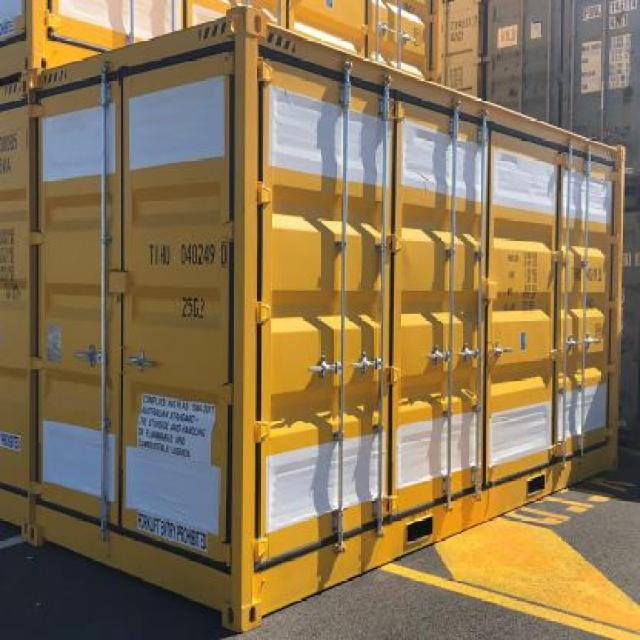container_number: (134, 235, 240, 272)
